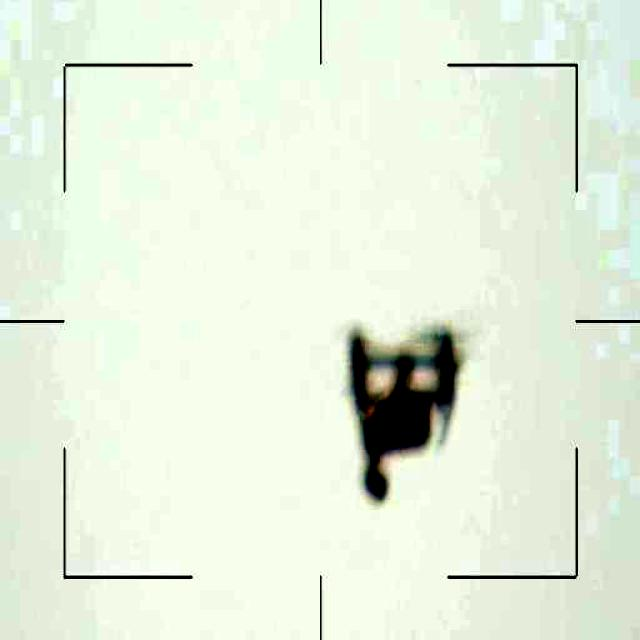bird: (332, 310, 484, 508)
